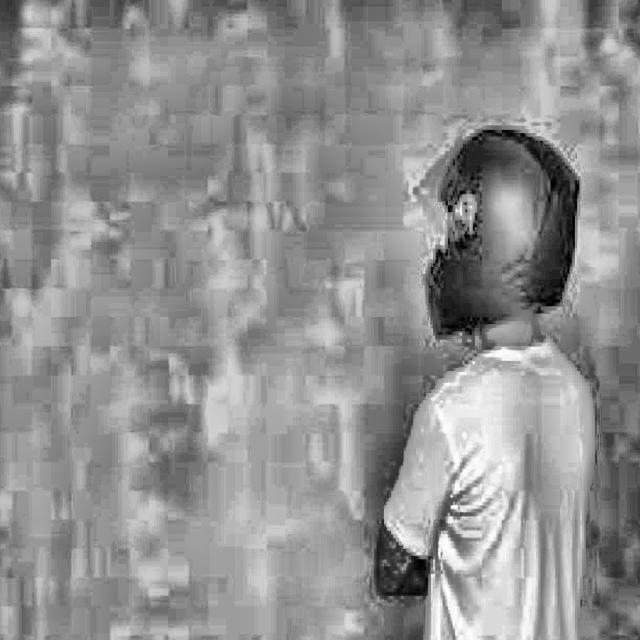Helmet: (414, 123, 580, 339)
